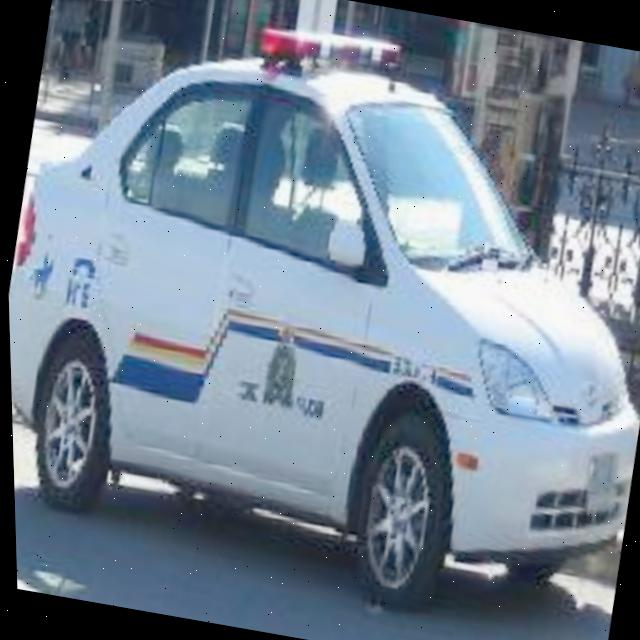emergency: (0, 1, 640, 640)
